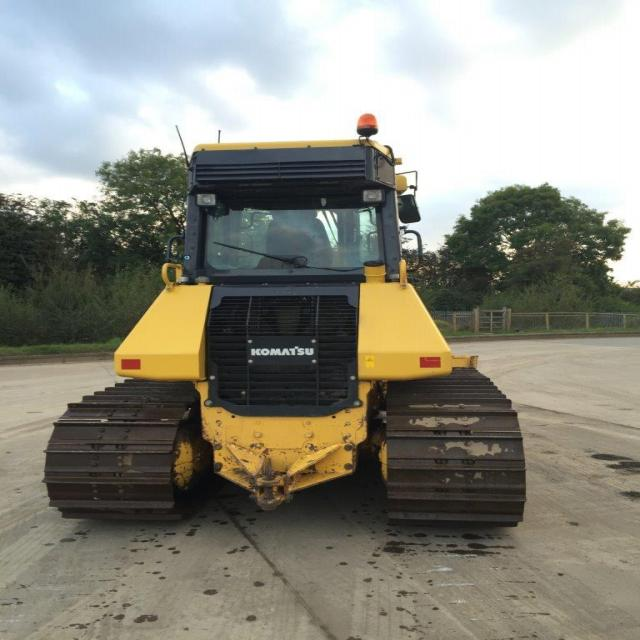Bulldozer: (29, 122, 555, 572)
